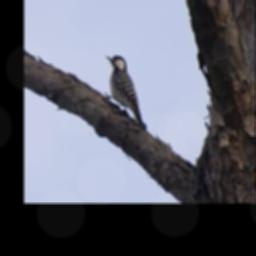Woodpecker: (100, 50, 150, 134)
